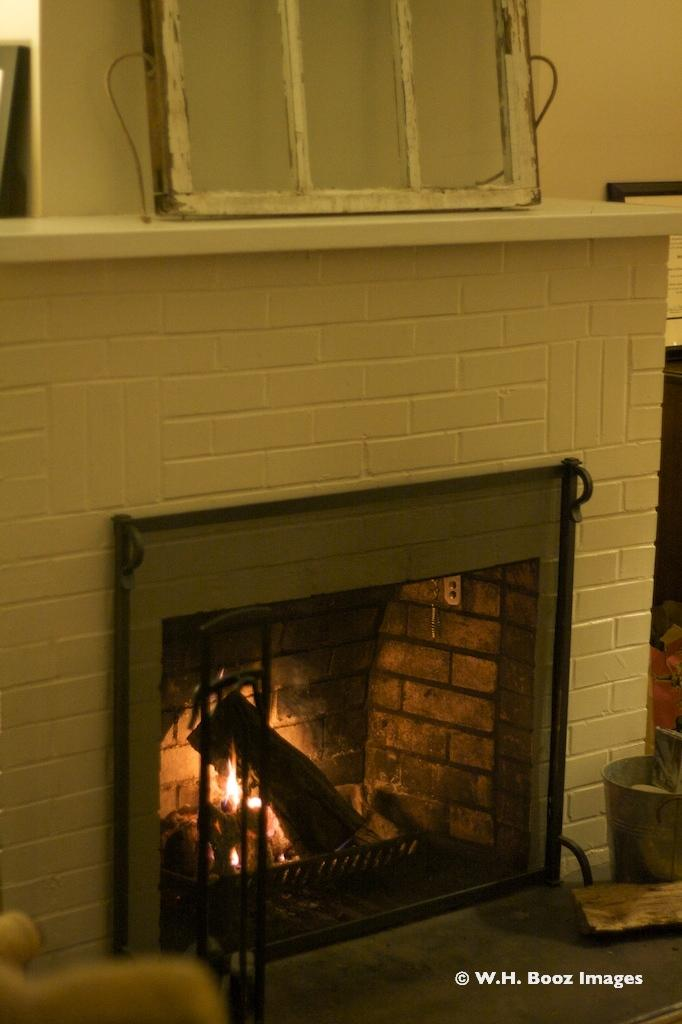Fire: (195, 749, 264, 874)
